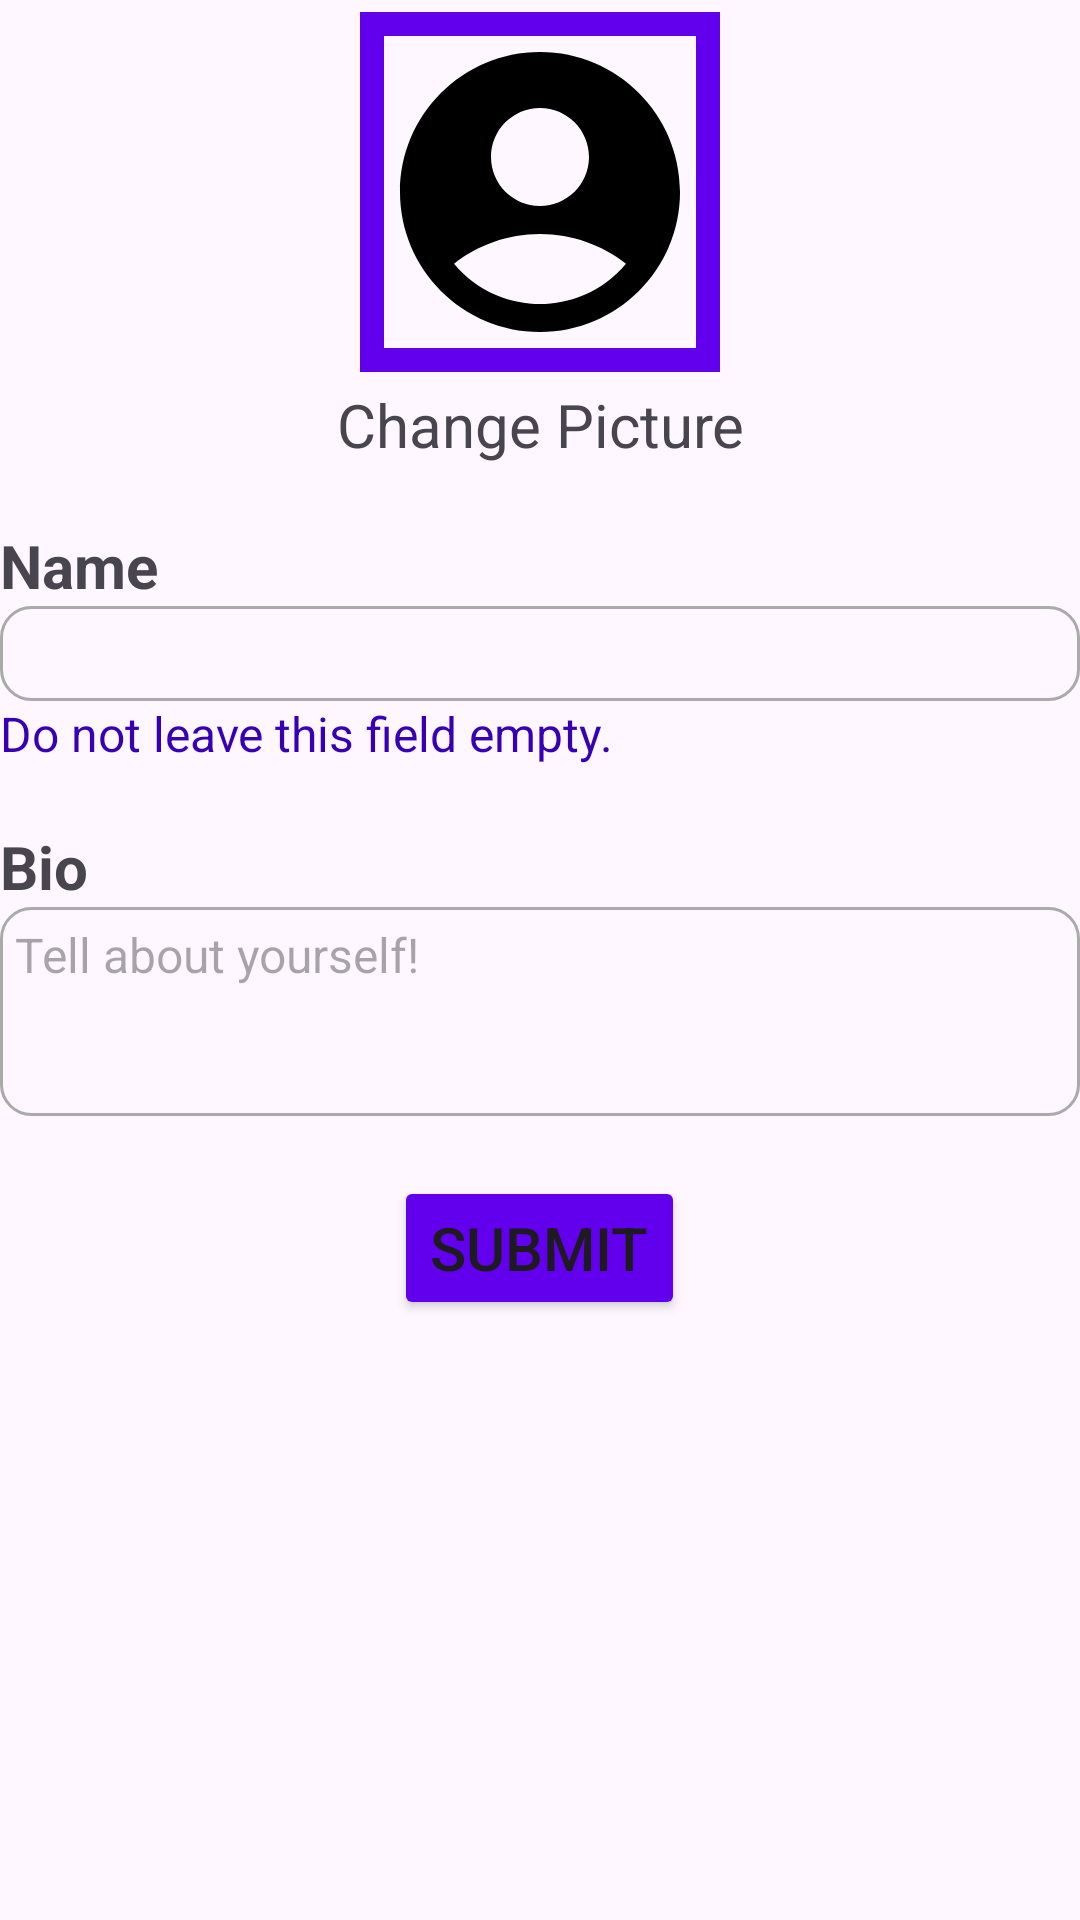

Named icons in this screenshot (1080 x 1920) and their centers, (x,y):
profile circle: (540,192)
